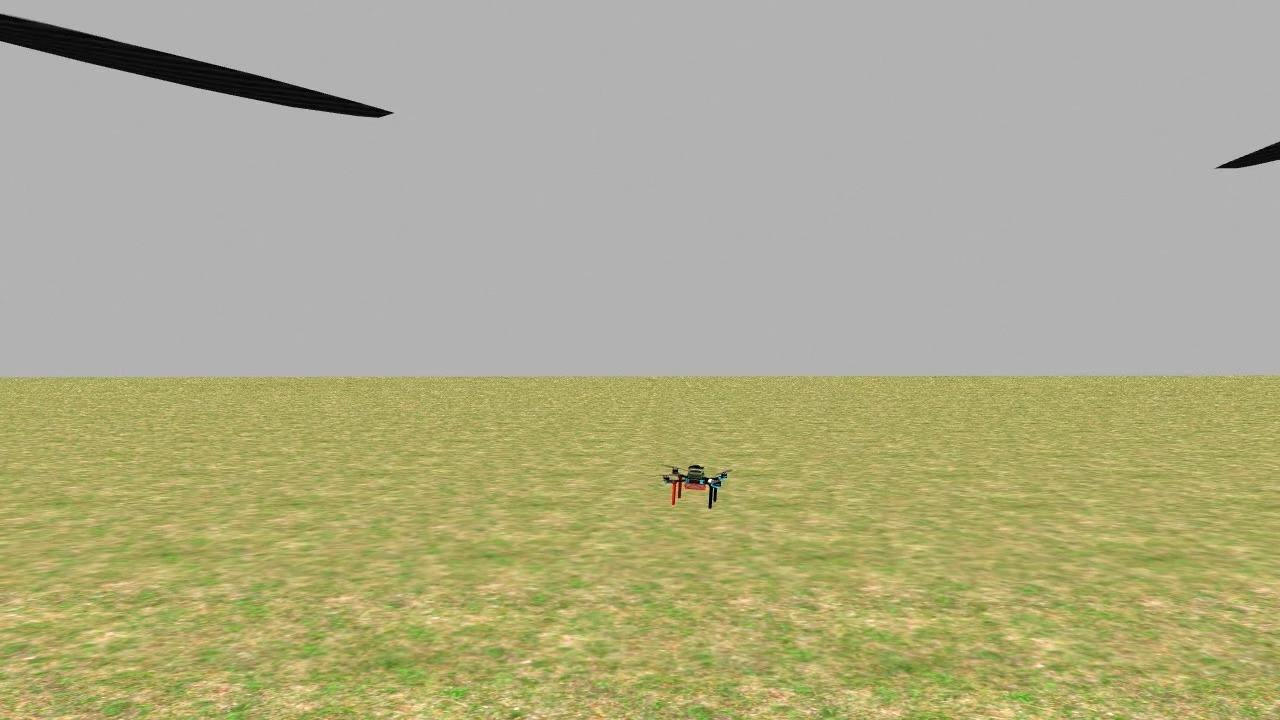UAV: (656, 446, 741, 516)
